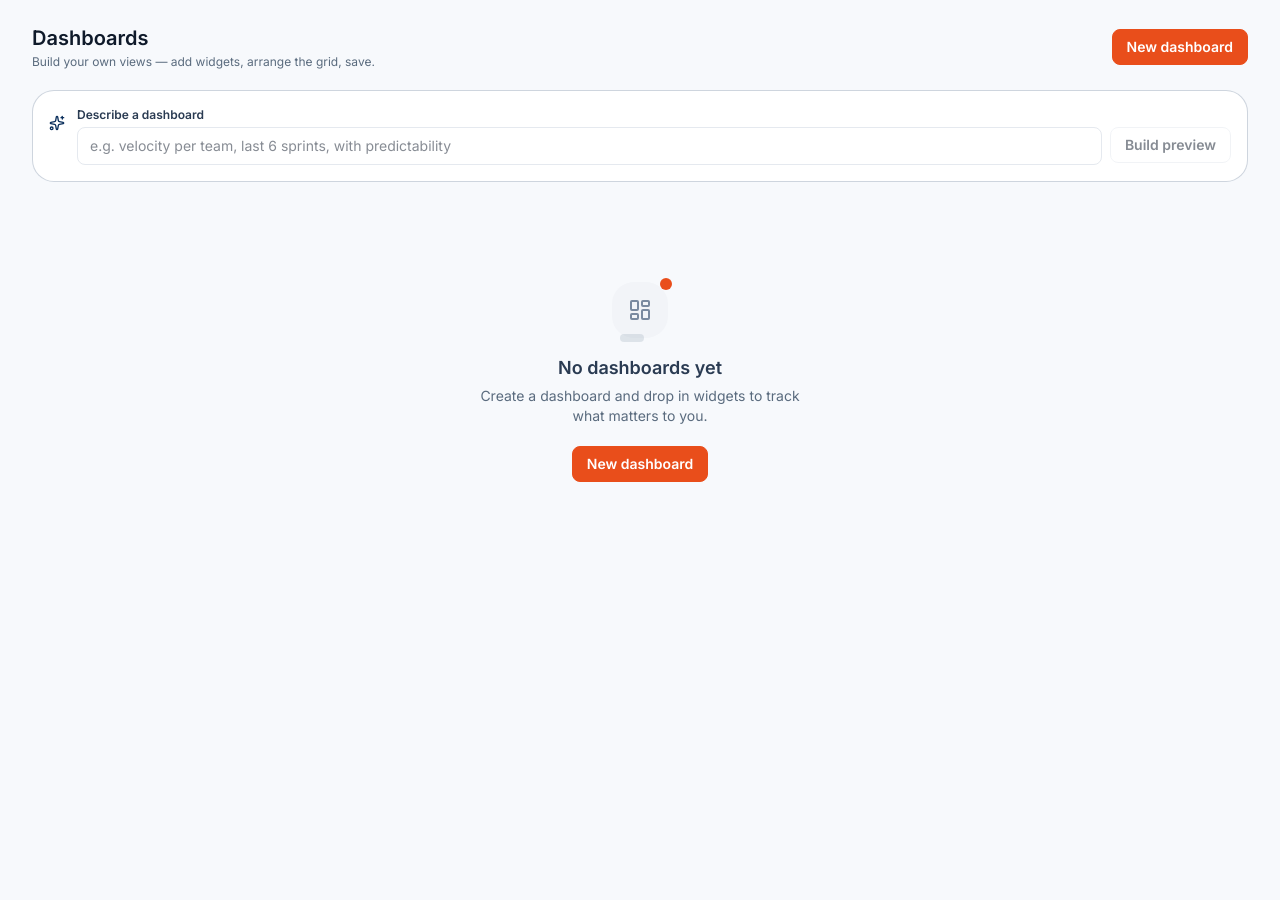
Test: DashboardsView › conversational dashboard entry (Cap O, RB-40 §2) › compiles a prompt and renders the returned widget spec preview
The image size is (1280, 900).
Type "velocity per team last 6 sprints with predictability" into the field named "describe the dashboard you want" at (589, 146), box [77, 127, 1102, 165]
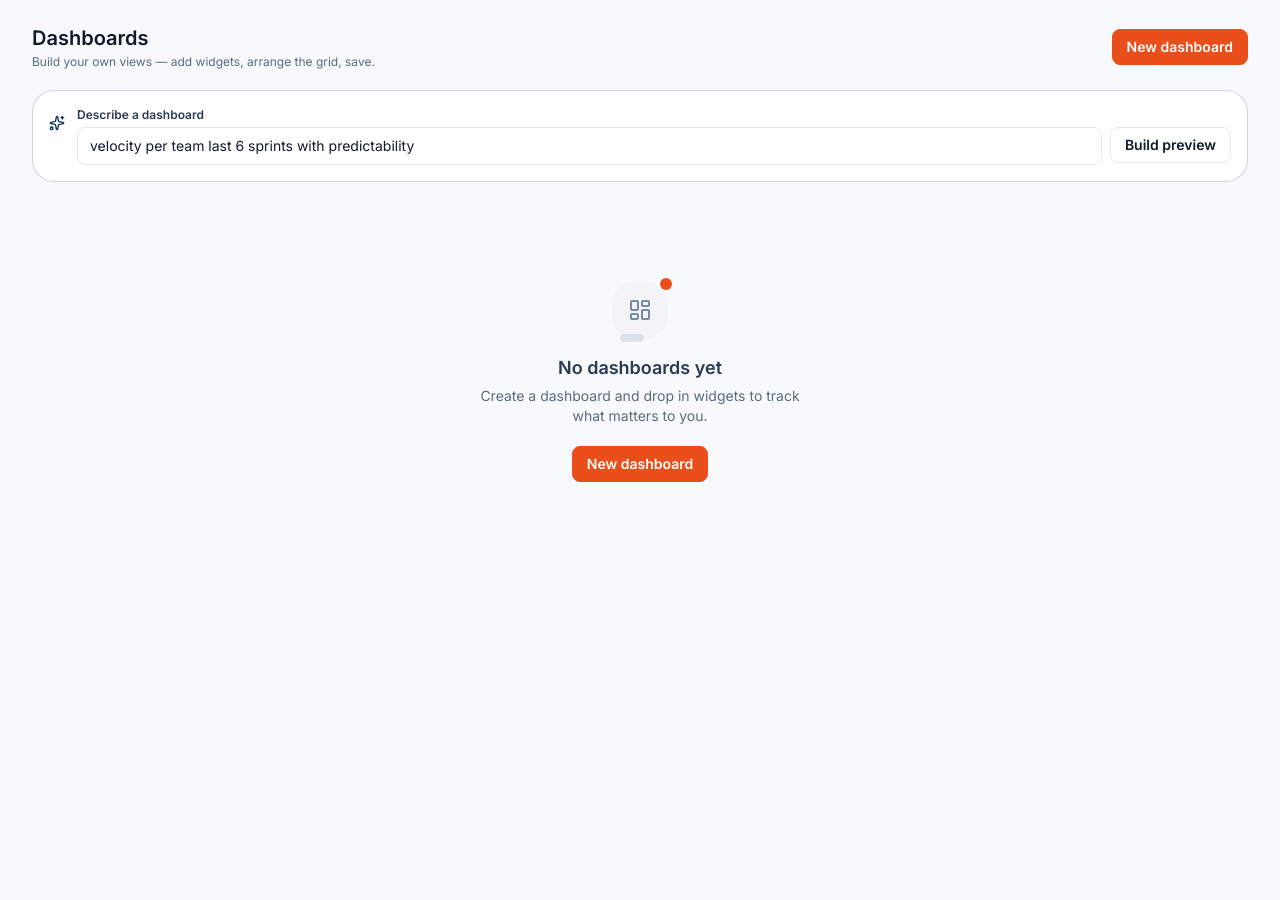
Click the button "Build preview" at (1170, 145), box [1110, 127, 1231, 163]
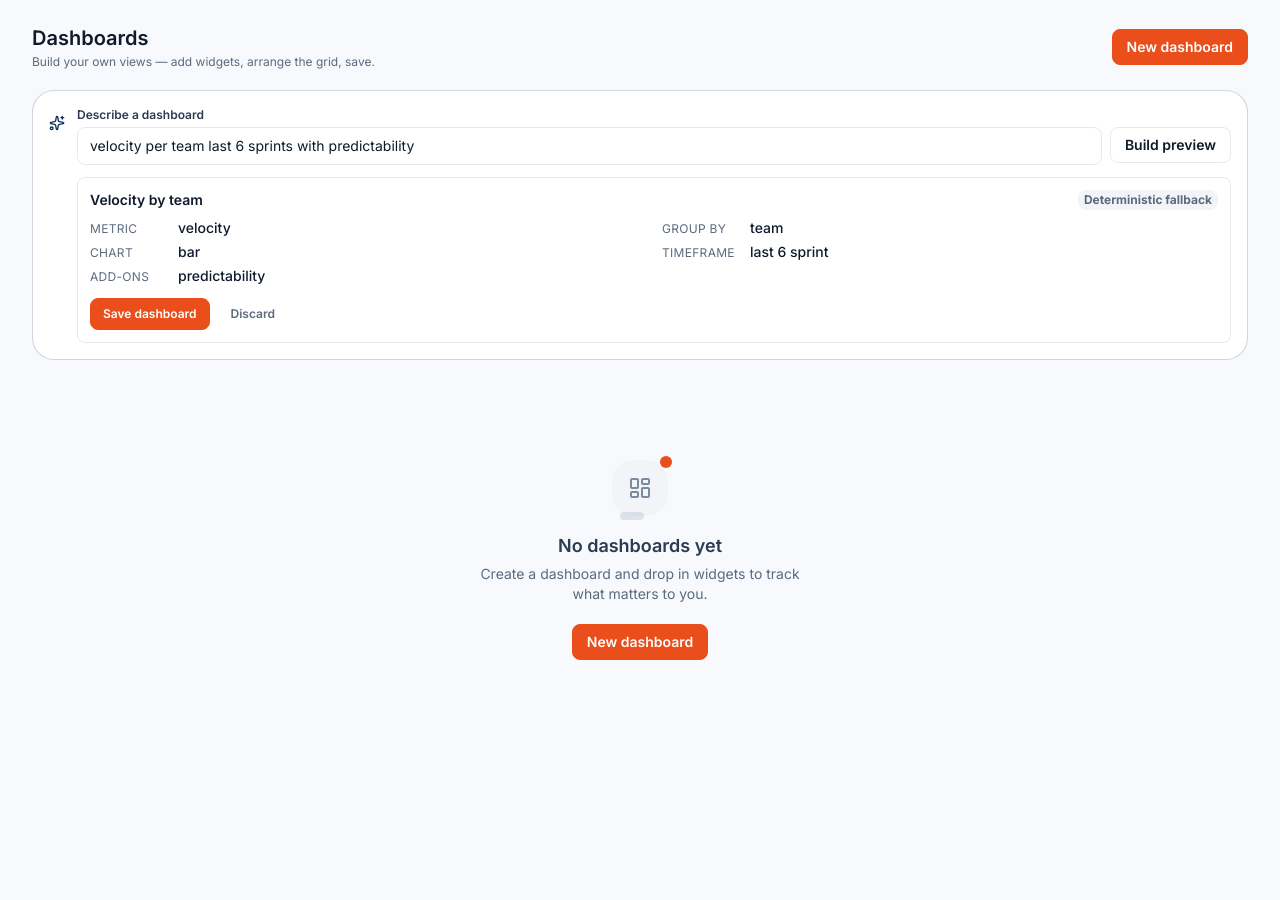
Expected: the text "Velocity by team" is shown, [90, 190, 203, 210]
Expected: the text "last 6 sprint" is shown, [750, 242, 828, 262]
Expected: the text "Deterministic fallback" is shown, [1078, 190, 1218, 210]
